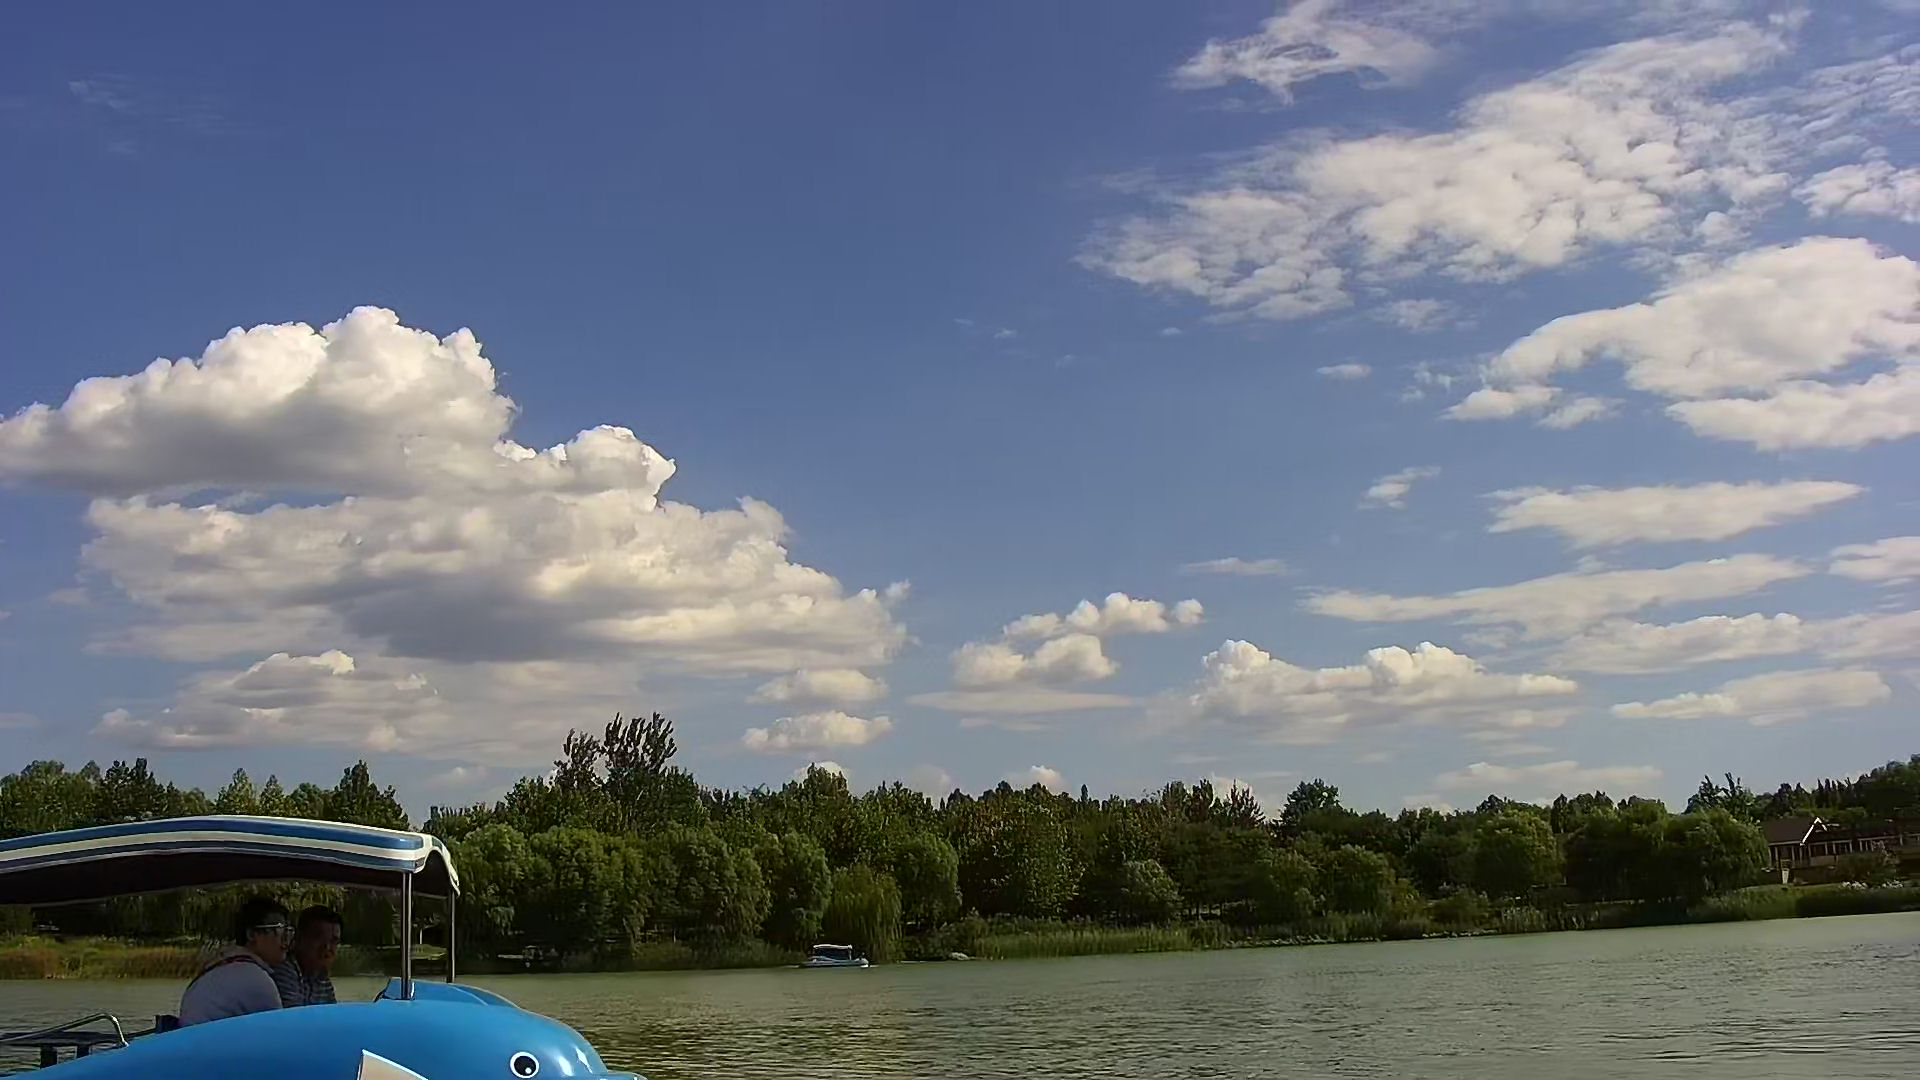boat: (1, 815, 668, 1079), (791, 938, 877, 974)
person: (177, 898, 287, 1027), (278, 907, 344, 1015)
